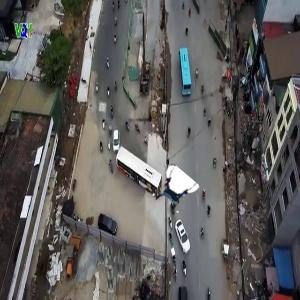drone: (154, 171, 196, 213)
